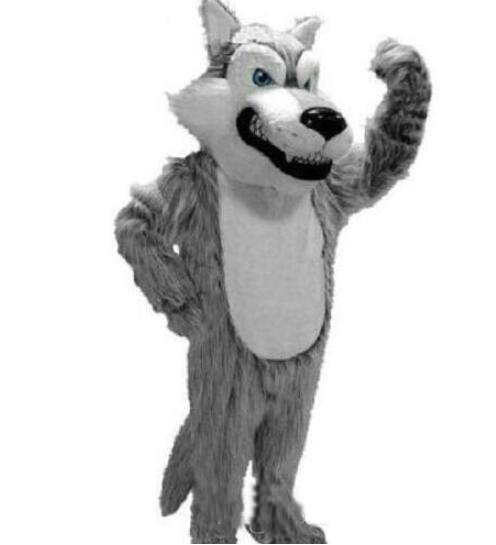Lobo: (95, 2, 442, 532)
